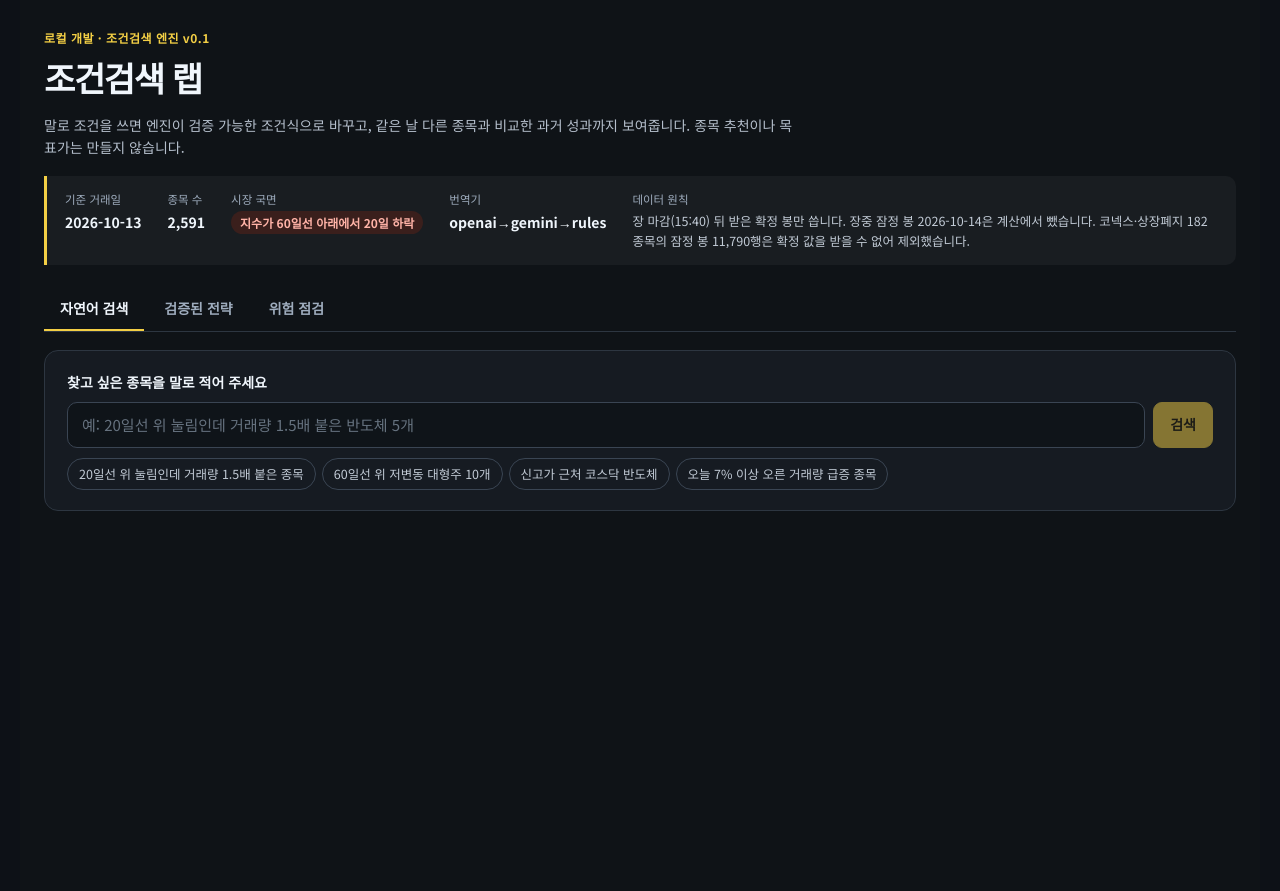
condition lab › never offers today-search for a retired strategy, only its evidence
This screenshot has width=1280, height=891.
expect the text "지수가 60일선 아래에서 20일 하락" is shown: met, box [231,211,423,234]
Click the tab "검증된 전략" at (198, 309), box [148,287,249,331]
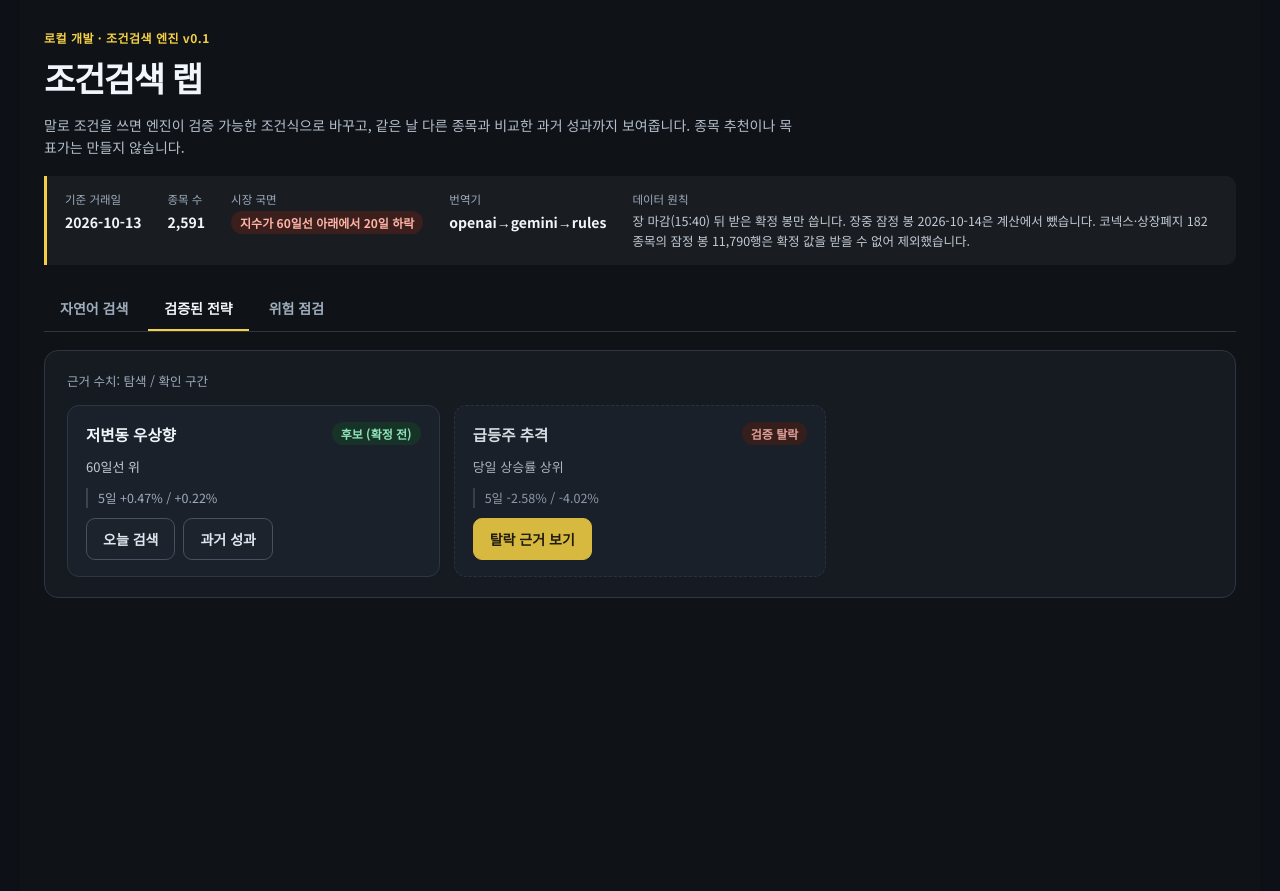
Click the button "탈락 근거 보기" at (532, 539), box [473,518,592,560]
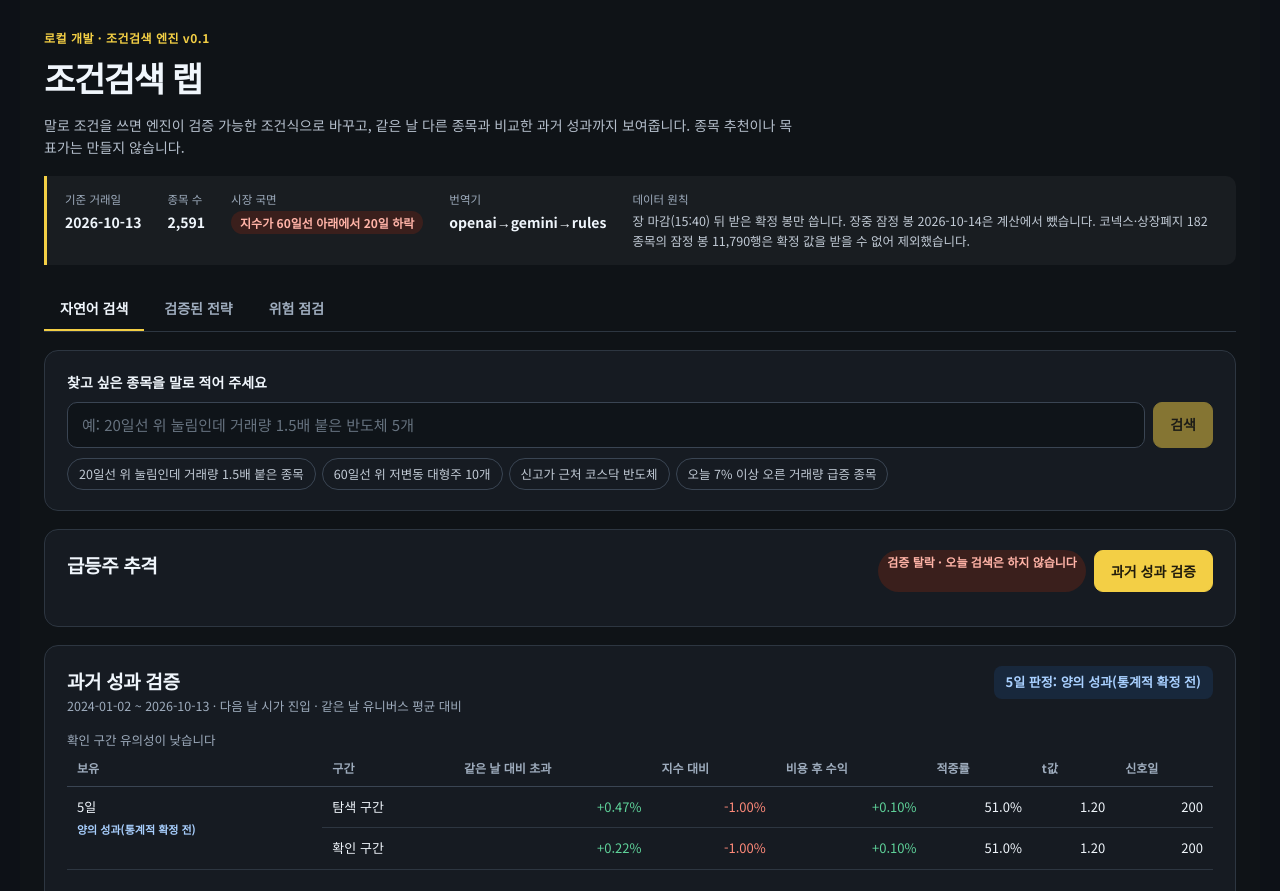
expect the text "검증 탈락 · 오늘 검색은 하지 않습니다" is shown: met, box [878,550,1086,592]
